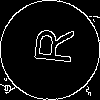R: (25, 25, 74, 66)
